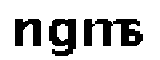6: (123, 17, 147, 48)
g: (47, 16, 79, 60)
m: (82, 16, 126, 50)
n: (10, 14, 41, 49)
